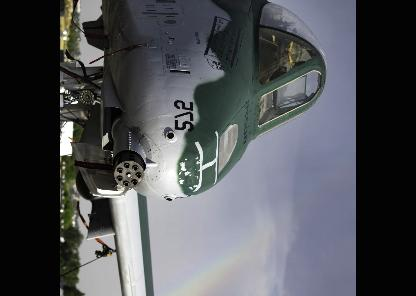A10: (61, 0, 329, 295)
